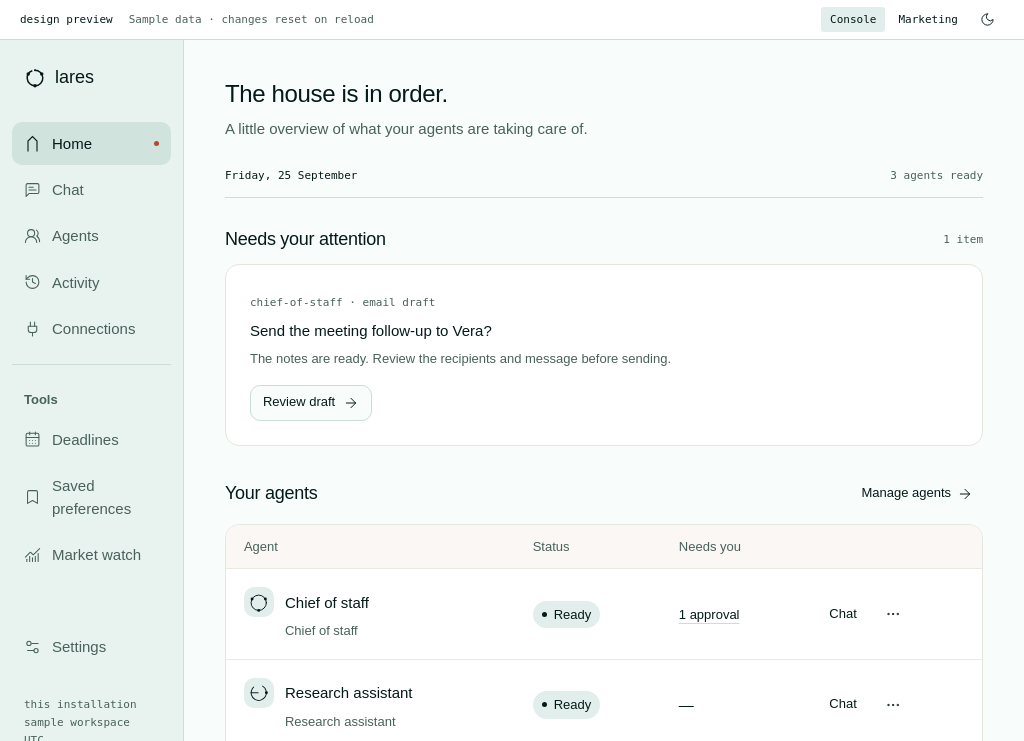
Scenario: standalone preview journeys › switches theme and previews the marketing form without submitting data
The width and height of the screenshot is (1024, 741).
Click the button named "Use dark theme".
click(988, 20)  # box [971, 7, 1004, 32]
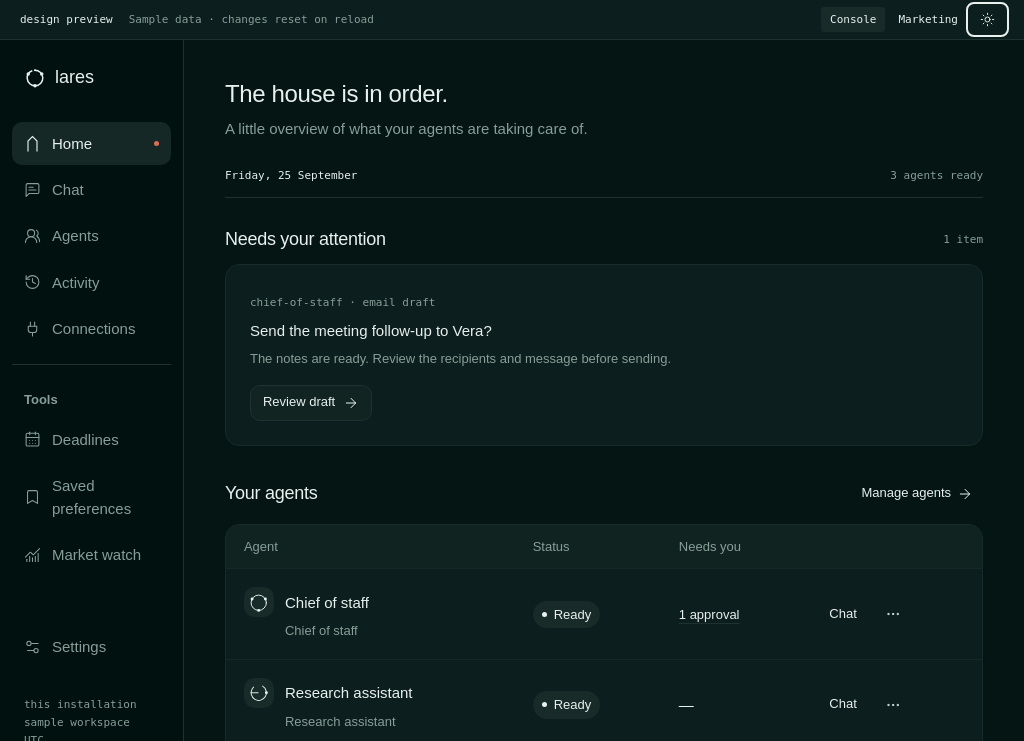
Click the button "Marketing".
click(928, 20)  # box [889, 7, 967, 32]
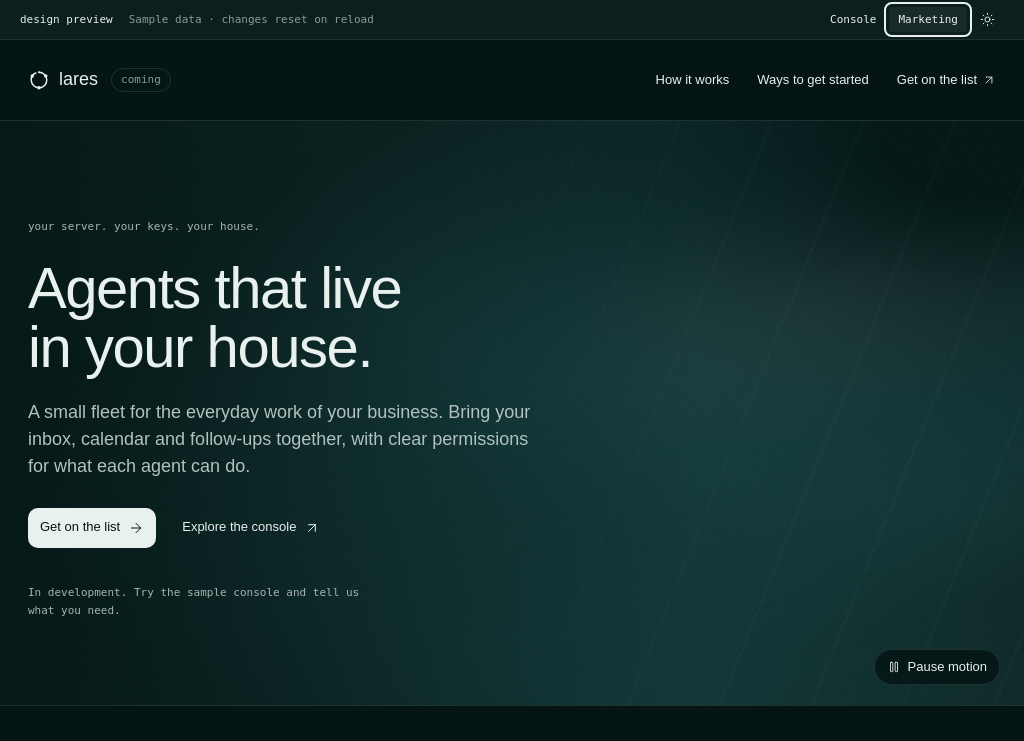
Now the heading "Agents that live" is shown, box [28, 255, 401, 380]
Click the button with aria-label "Pause background animation".
click(937, 667)  # box [874, 649, 1000, 685]
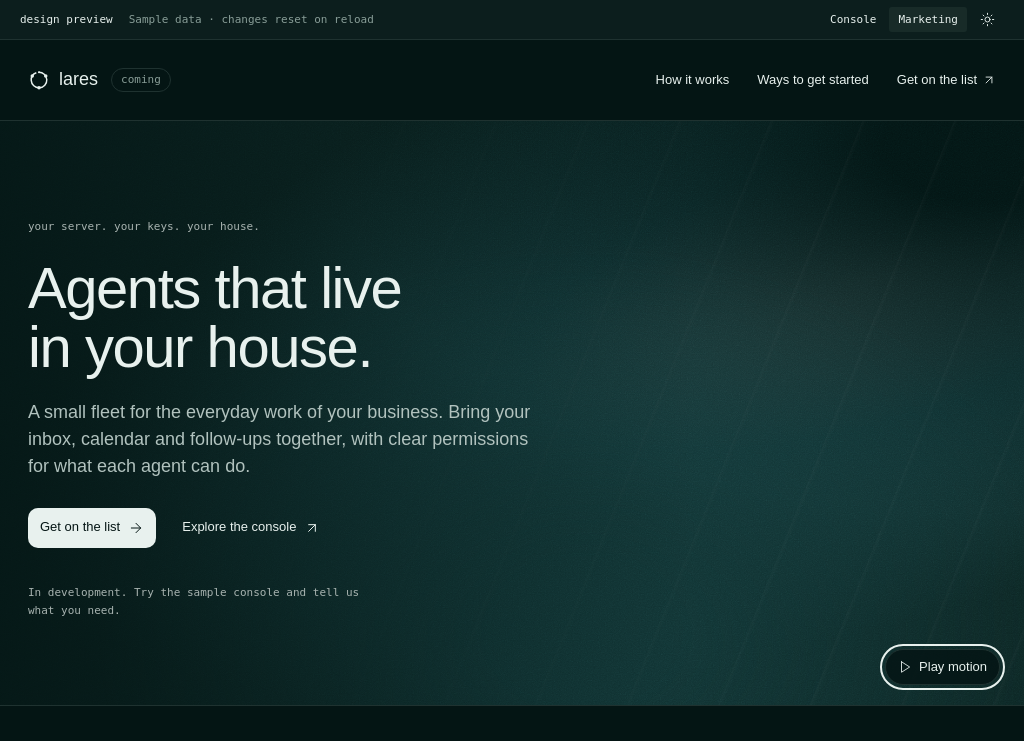
Now the element with class "hero-field" has class "motion-paused"
Click the button with aria-label "Play background animation".
click(943, 667)  # box [885, 649, 1000, 685]
(page scrolled)
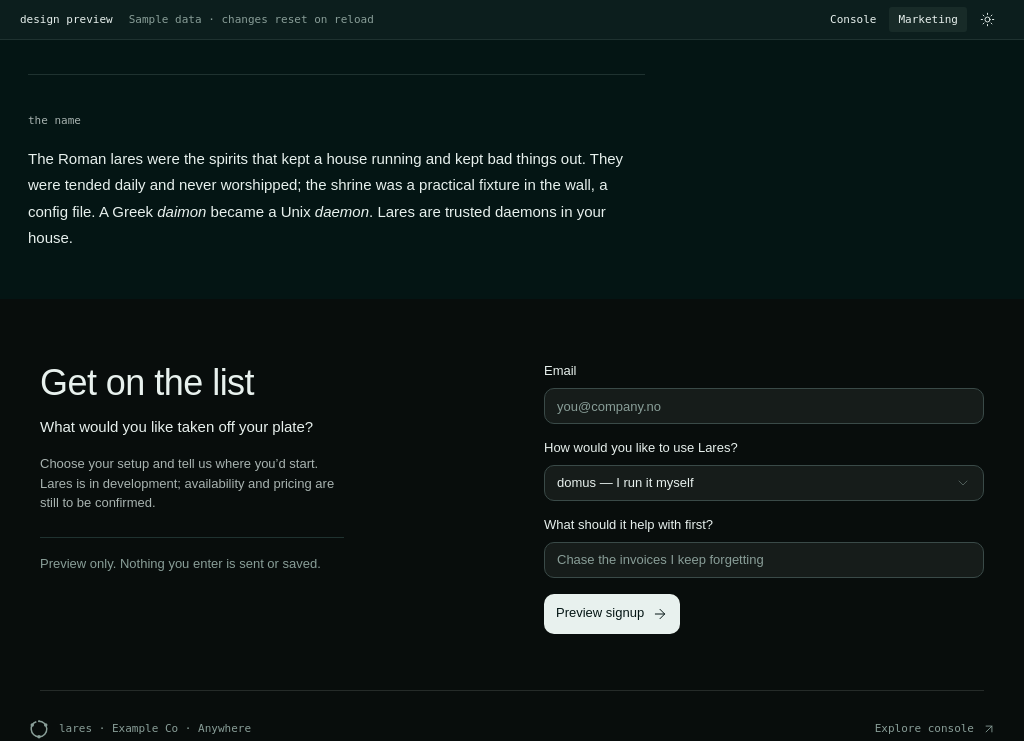
Type "owner@example.com" into the field labelled "Email".
click(764, 406); type("owner@example.com")  # box [544, 388, 984, 424]
Click the button "Preview signup".
click(612, 614)  # box [544, 594, 680, 634]
(page scrolled)
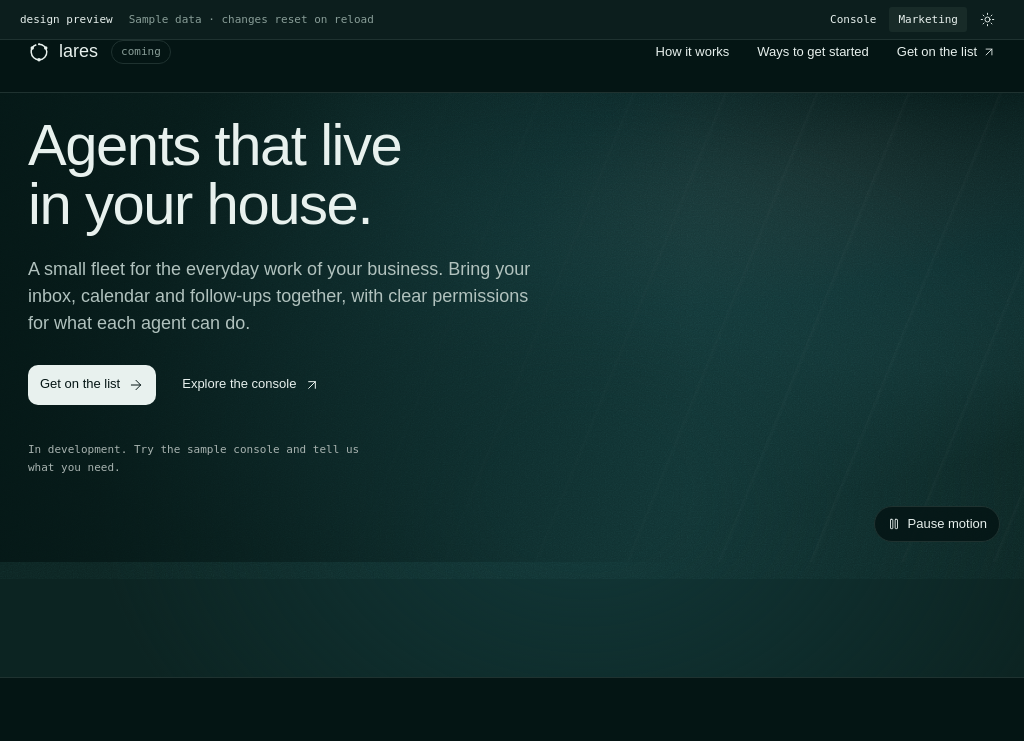
Click the button "Explore the console".
click(251, 385)  # box [170, 365, 332, 405]
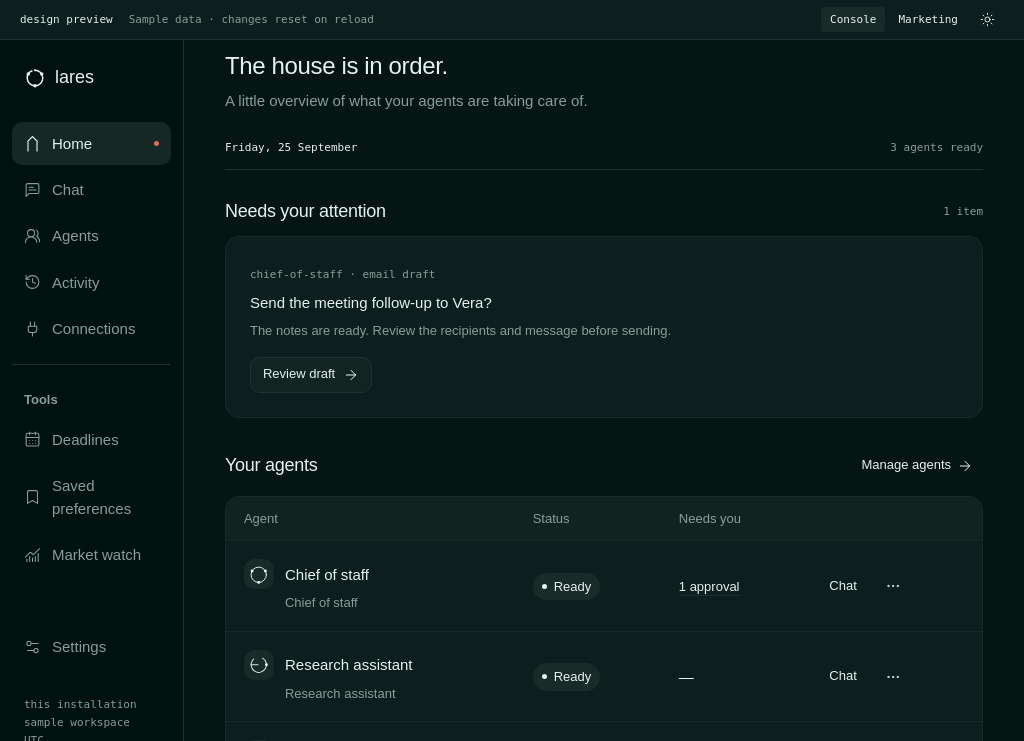
Now the heading "The house is in order." is shown, box [225, 52, 448, 79]
